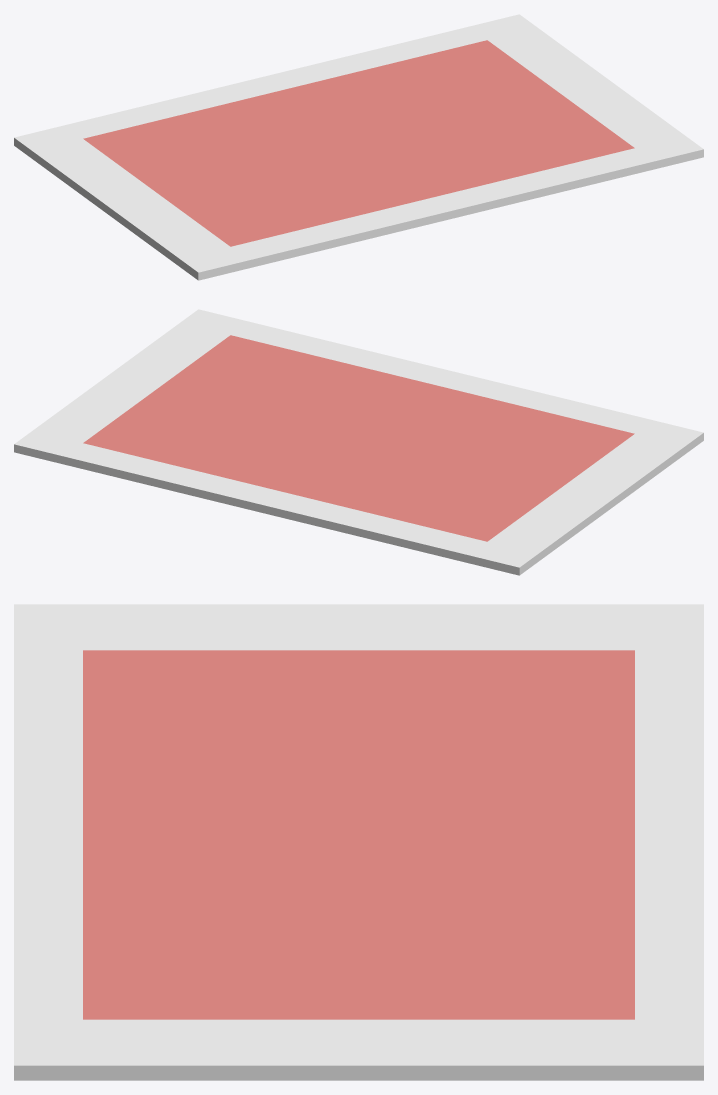
File: tapestry.obj
3 views of the same model, one above another, from view 1: azimuth 30°, elevation 25°; view 2: azimuth 150°, elevation 25°; view 3: azimuth 270°, elevation 25° (orthographic). The views are drawn at different scales.
Visible parts, largest first — view 1: pCube1; view 2: pCube1; view 3: pCube1.
Boxes of the visible parts, <box> form: pCube1: <box>14,14,703,280</box>; pCube1: <box>14,309,703,575</box>; pCube1: <box>14,604,703,1080</box>.
Bounding box in the file's own units: 5.71 × 0.0866 × 3.61.
2 materials, 2 textured.
